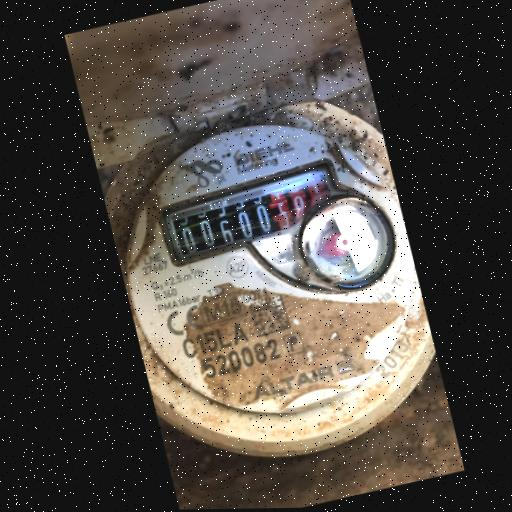0: (228, 199, 258, 243), (190, 209, 220, 252), (246, 194, 276, 237), (172, 215, 201, 257)
2: (301, 170, 329, 210)
5: (264, 189, 294, 232)
6: (208, 203, 239, 248)
9: (283, 183, 310, 223)
border_water_meter_number: (149, 153, 354, 269)
